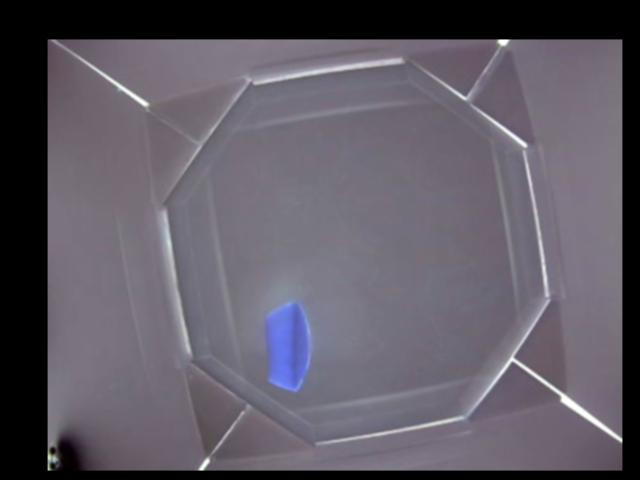Potato: (264, 301, 311, 394)
